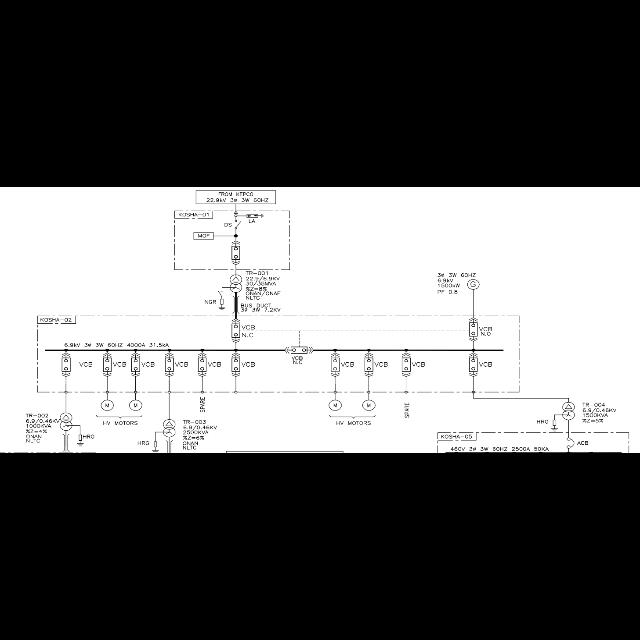CB: (291, 346, 307, 354), (232, 246, 240, 260), (232, 324, 240, 338), (62, 358, 70, 372), (103, 358, 111, 372), (132, 358, 140, 372), (165, 358, 173, 372), (198, 358, 206, 372), (232, 358, 240, 372), (331, 358, 339, 372), (365, 358, 373, 372), (402, 358, 410, 372), (469, 323, 477, 337), (469, 358, 477, 372)
CH: (235, 210, 238, 213)
GND: (77, 444, 85, 448), (551, 428, 559, 432), (260, 214, 264, 218), (218, 308, 226, 310)
LA: (247, 215, 259, 218)
MOF: (194, 232, 214, 240)
ds: (235, 220, 241, 230)
